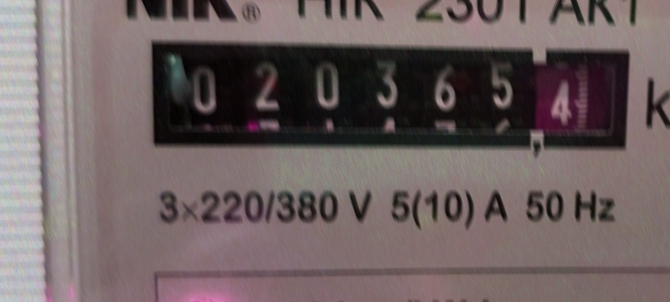0: (187, 61, 221, 116), (313, 60, 343, 110)
2: (251, 59, 282, 110)
3: (372, 59, 402, 108)
4: (549, 76, 573, 125)
5: (489, 61, 517, 108)
6: (431, 60, 458, 111)
screen: (136, 23, 646, 169)
